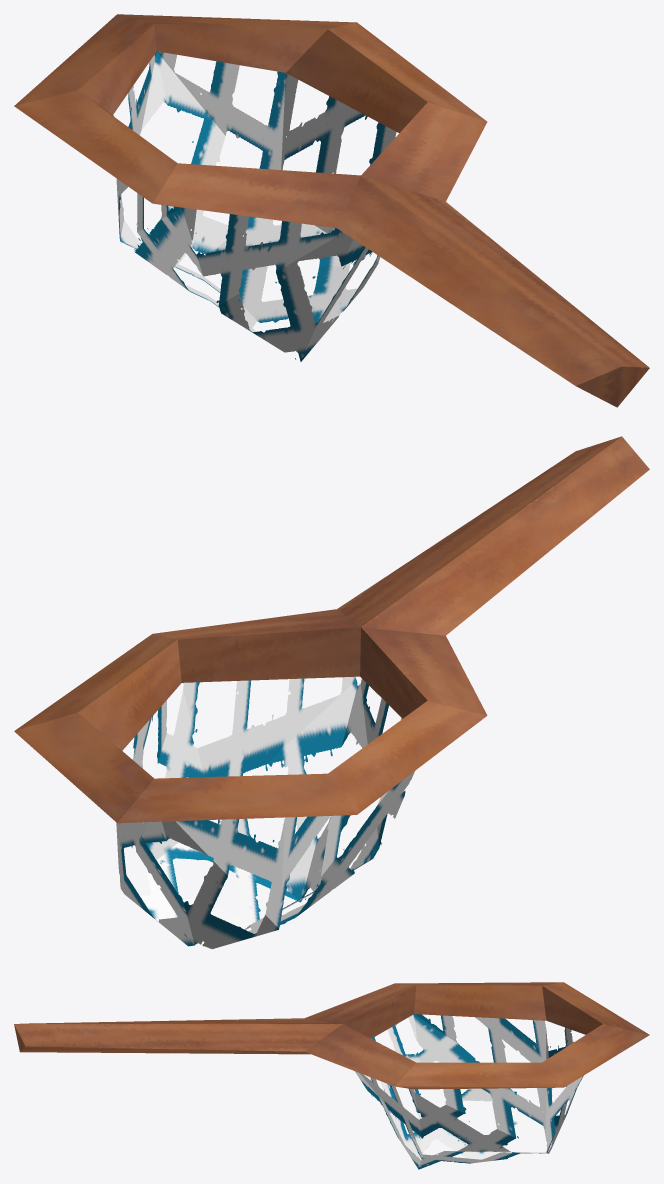
File: Net.fbx
The picture shows the model from 3 angles, top to bottom: view 1: azimuth 30°, elevation 25°; view 2: azimuth 150°, elevation 25°; view 3: azimuth 270°, elevation 25°; orthographic projection. The views are drawn at different scales.
Parts seen in each view (by area): view 1: Plane; view 2: Plane; view 3: Plane.
Part boxes in pixels (x1,y1,x2,y2): Plane: (14, 14, 649, 407); Plane: (14, 436, 649, 949); Plane: (14, 982, 649, 1169).
Bounding box in the file's own units: 0.8163 × 0.5257 × 2.08.
